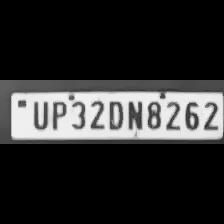2: (86, 97, 106, 131), (200, 99, 220, 131), (164, 99, 181, 131)
3: (67, 97, 87, 130)
6: (180, 99, 200, 131)
8: (142, 98, 162, 130)
D: (104, 98, 124, 130)
N: (125, 98, 143, 130)
P: (48, 98, 68, 130)
U: (28, 98, 48, 130)
